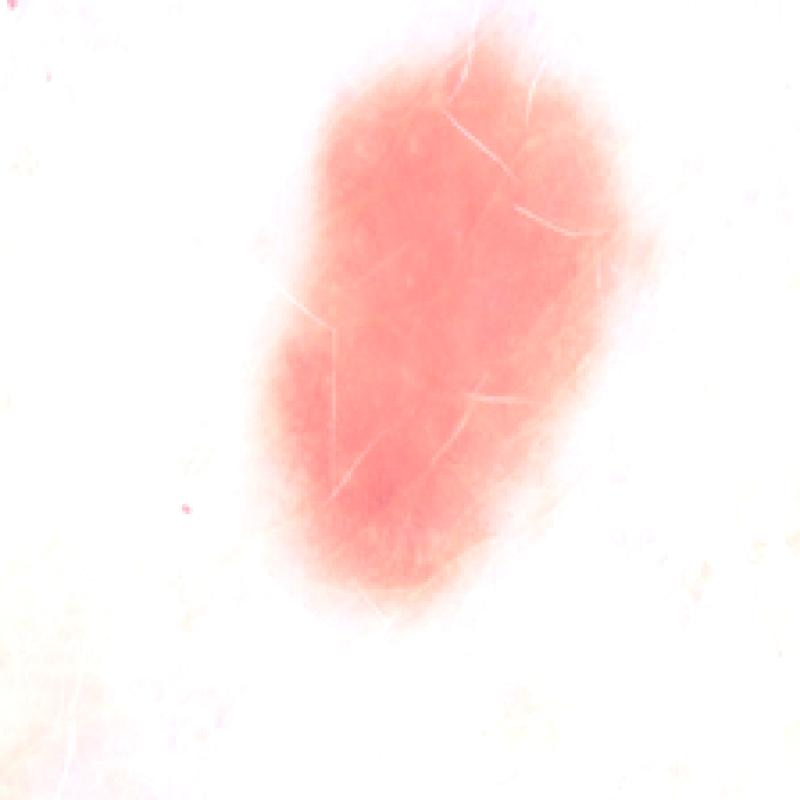benign: (255, 10, 672, 652)
